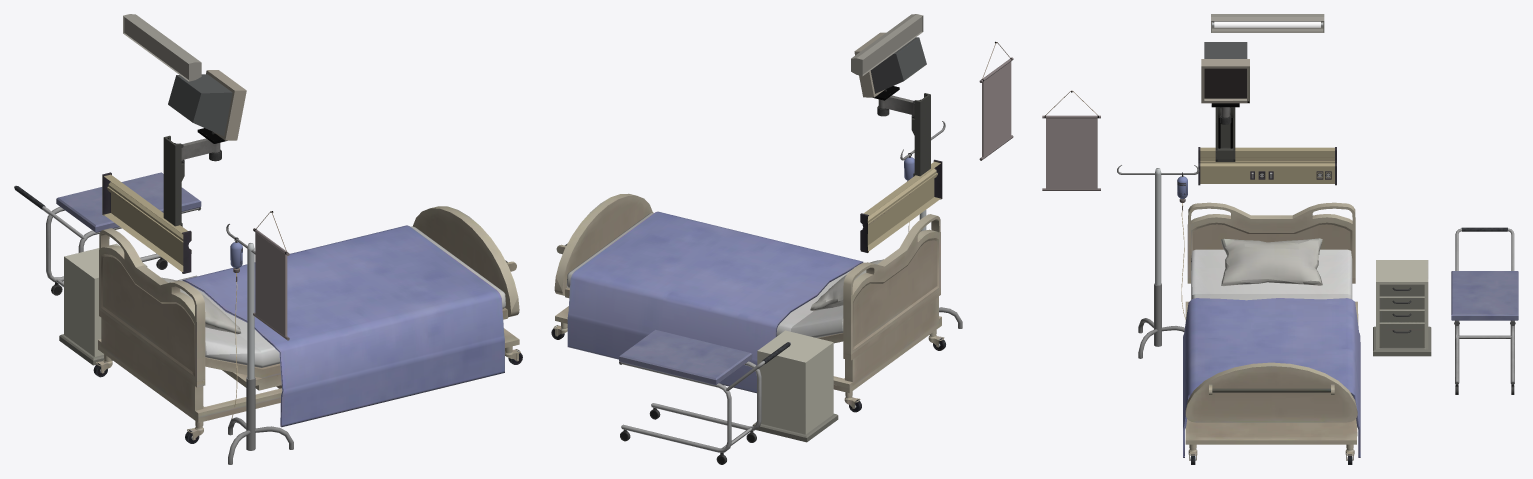
File: bed-transformed.glb
3 renders of one model, left to right at view 1: azimuth 30°, elevation 25°; view 2: azimuth 150°, elevation 25°; view 3: azimuth 270°, elevation 25°, orthographic. The views are drawn at different scales.
Visible parts, largest first — view 1: Bed-material.002, FoodTable-material.002, ElectricSystm-material.003, Commode-material.002, Tv-material.003, Sign-material.003, TvSystm-material.002, IvPole-material.002, Light1-material.003, Serum-material.003; view 2: Bed-material.002, Commode-material.002, FoodTable-material.002, ElectricSystm-material.003, Sign-material.003, Tv-material.003, TvSystm-material.002, Light1-material.003; view 3: Bed-material.002, Commode-material.002, FoodTable-material.002, ElectricSystm-material.003, Sign-material.003, Tv-material.003, IvPole-material.002, Light1-material.003, TvSystm-material.002, Light2-material.003.
Part boxes in pixels (x1,y1,x2,y2): Bed-material.002: [93, 206, 522, 443]; FoodTable-material.002: [14, 172, 201, 295]; ElectricSystm-material.003: [102, 172, 191, 273]; Commode-material.002: [59, 243, 147, 365]; Tv-material.003: [168, 70, 246, 140]; Sign-material.003: [253, 211, 289, 340]; TvSystm-material.002: [163, 128, 227, 226]; IvPole-material.002: [226, 223, 293, 464]; Light1-material.003: [123, 14, 201, 81]; Serum-material.003: [230, 237, 242, 418]; Bed-material.002: [551, 193, 945, 412]; Commode-material.002: [752, 330, 838, 442]; FoodTable-material.002: [619, 329, 790, 464]; ElectricSystm-material.003: [860, 159, 942, 252]; Sign-material.003: [979, 41, 1013, 160]; Tv-material.003: [854, 32, 926, 97]; TvSystm-material.002: [873, 86, 930, 176]; Light1-material.003: [851, 14, 923, 76]; Bed-material.002: [1183, 202, 1360, 464]; Commode-material.002: [1373, 260, 1431, 356]; FoodTable-material.002: [1451, 227, 1518, 394]; ElectricSystm-material.003: [1198, 147, 1336, 185]; Sign-material.003: [1042, 90, 1100, 190]; Tv-material.003: [1201, 42, 1249, 103]; IvPole-material.002: [1117, 165, 1199, 358]; Light1-material.003: [1211, 14, 1324, 32]; TvSystm-material.002: [1211, 103, 1239, 161]; Light2-material.003: [1214, 21, 1320, 27].
Bounding box in the file's own units: 0.4379 × 0.4558 × 0.6183.
Materials: 11 (11 with a texture image).
